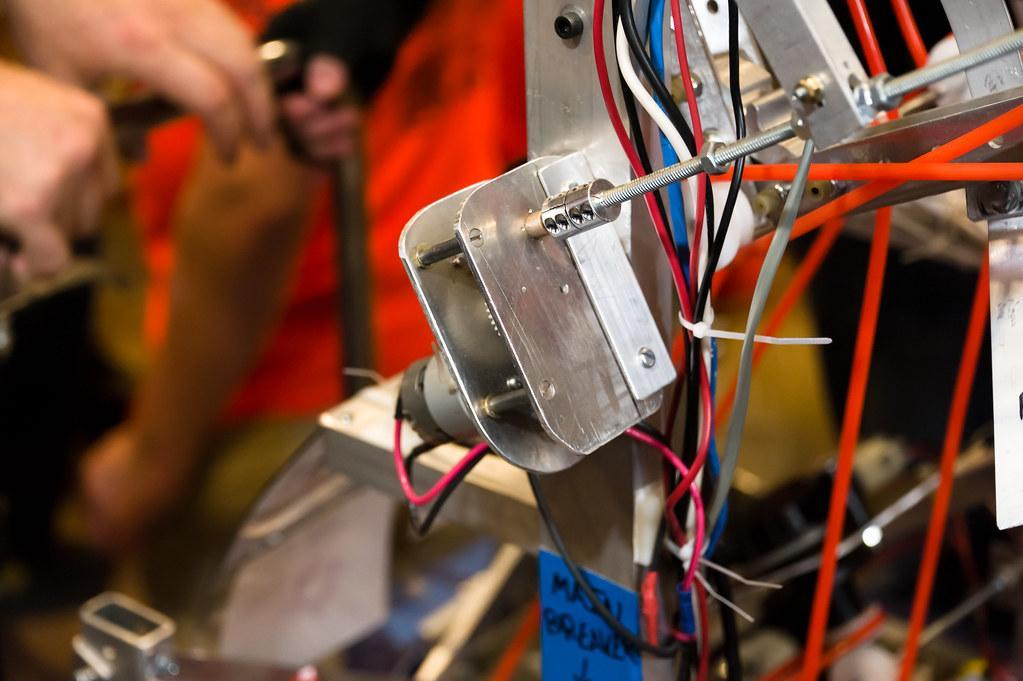robot: (63, 3, 1023, 681)
